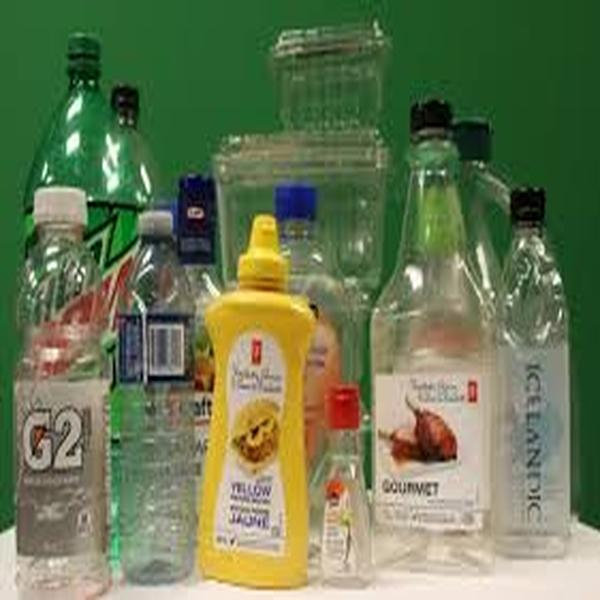tutuma: (12, 178, 116, 595), (485, 167, 577, 565), (120, 193, 207, 588)
